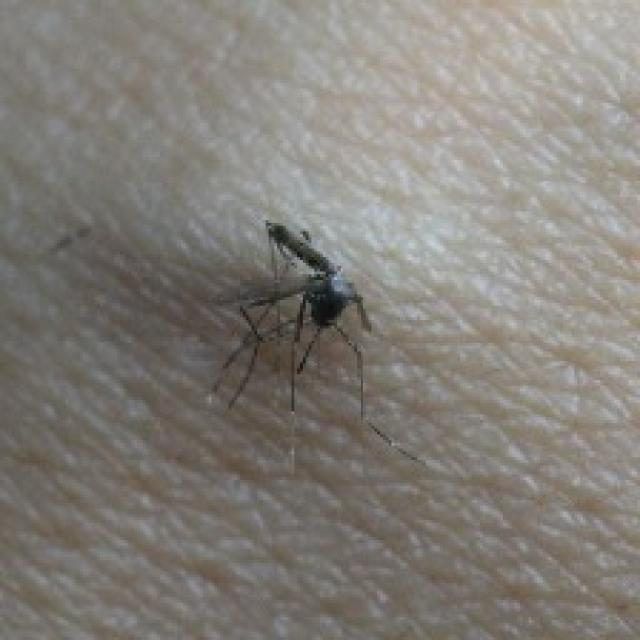aedes: (203, 214, 423, 472)
